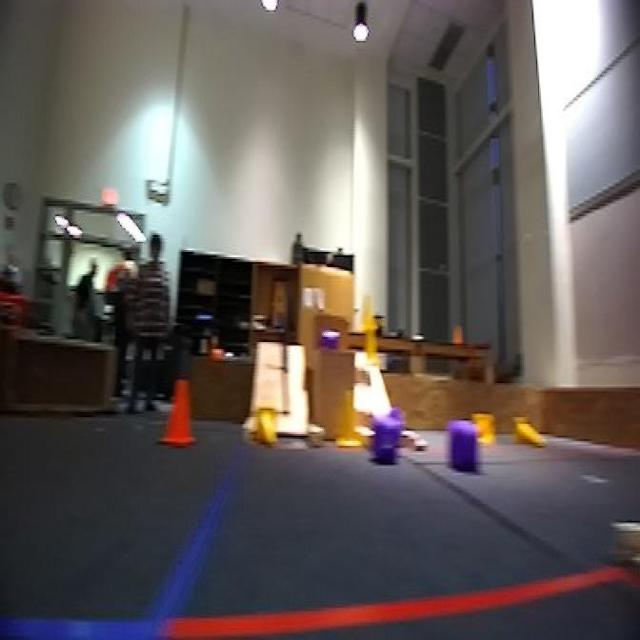frc_cone: (336, 388, 367, 453), (510, 416, 546, 450), (253, 408, 279, 448), (361, 322, 383, 369), (468, 407, 494, 425), (362, 303, 378, 332)
frc_cube: (448, 425, 481, 470), (366, 415, 397, 460), (317, 332, 338, 351)
